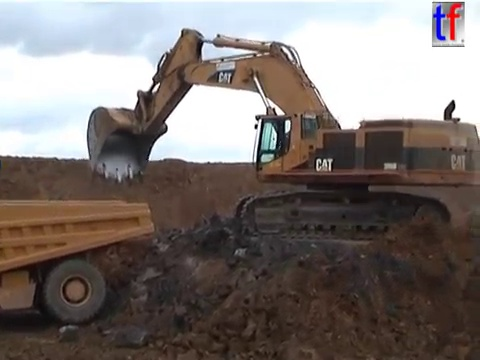excavator: (83, 25, 480, 244)
truck: (1, 196, 157, 327)
